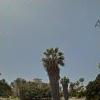Palm tree: (30, 38, 77, 100)
